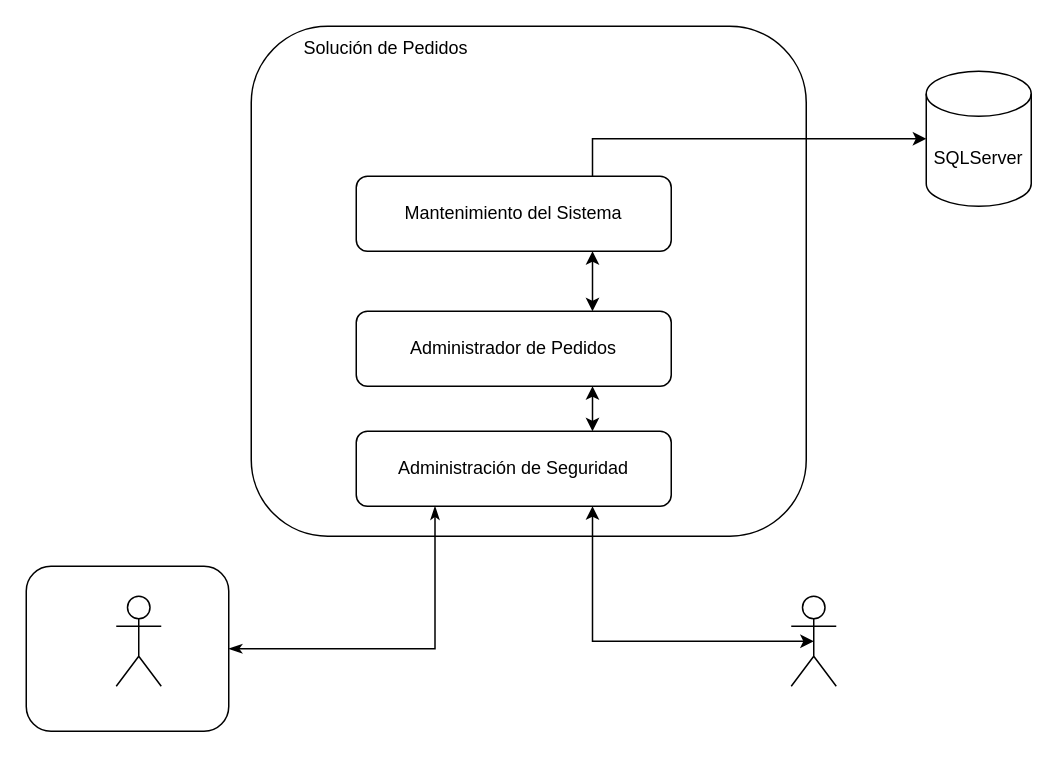
The diagram is 1058 pixels wide and 758 high, and some of its shapes have lost their labels. Here are the shapes that lost their labels. From the top down, the centre of each, then its label:
At (138,640): "Usuario Externo".
At (813,640): "Usuario Interno".
